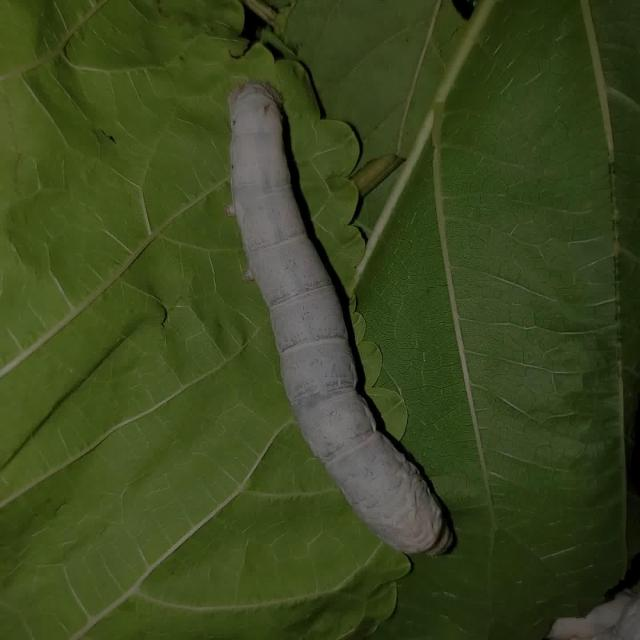Healthy: (208, 67, 497, 576)
